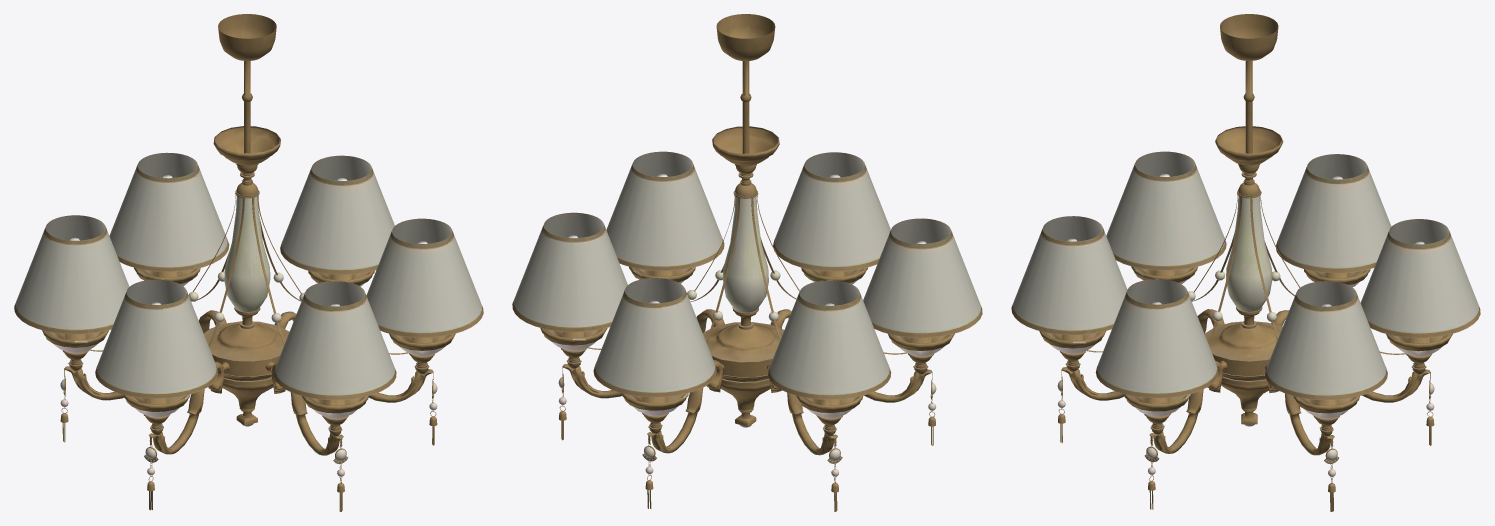
File: Chandelier_01.glb
3 views of the same model, side by side, from view 1: azimuth 30°, elevation 25°; view 2: azimuth 150°, elevation 25°; view 3: azimuth 270°, elevation 25° (orthographic).
Visible parts, largest first — view 1: Chandelier_01; view 2: Chandelier_01; view 3: Chandelier_01.
Boxes of the visible parts, left/top/right/bottom form: Chandelier_01: left=14, top=14, right=483, bottom=511; Chandelier_01: left=512, top=14, right=982, bottom=511; Chandelier_01: left=1011, top=14, right=1480, bottom=511.
Bounding box in the file's own units: 0.7465 × 0.7982 × 0.8155.
2 materials, 1 textured.
